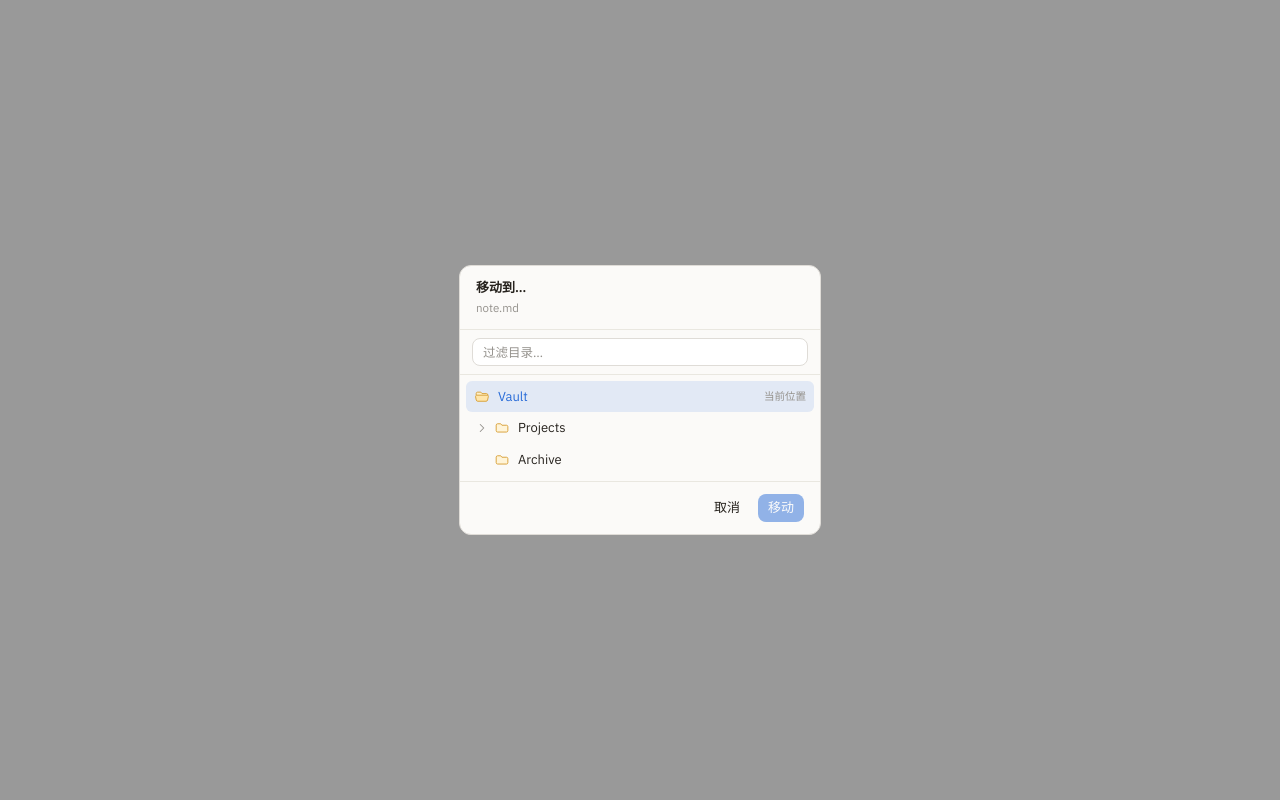
Test: MoveDialog collapsible tree › filters visible folders by typed text (case-insensitive)
The image size is (1280, 800).
Type "arch" into the field with placeholder "过滤目录…". click: (640,352)
box: [472,338,808,366]
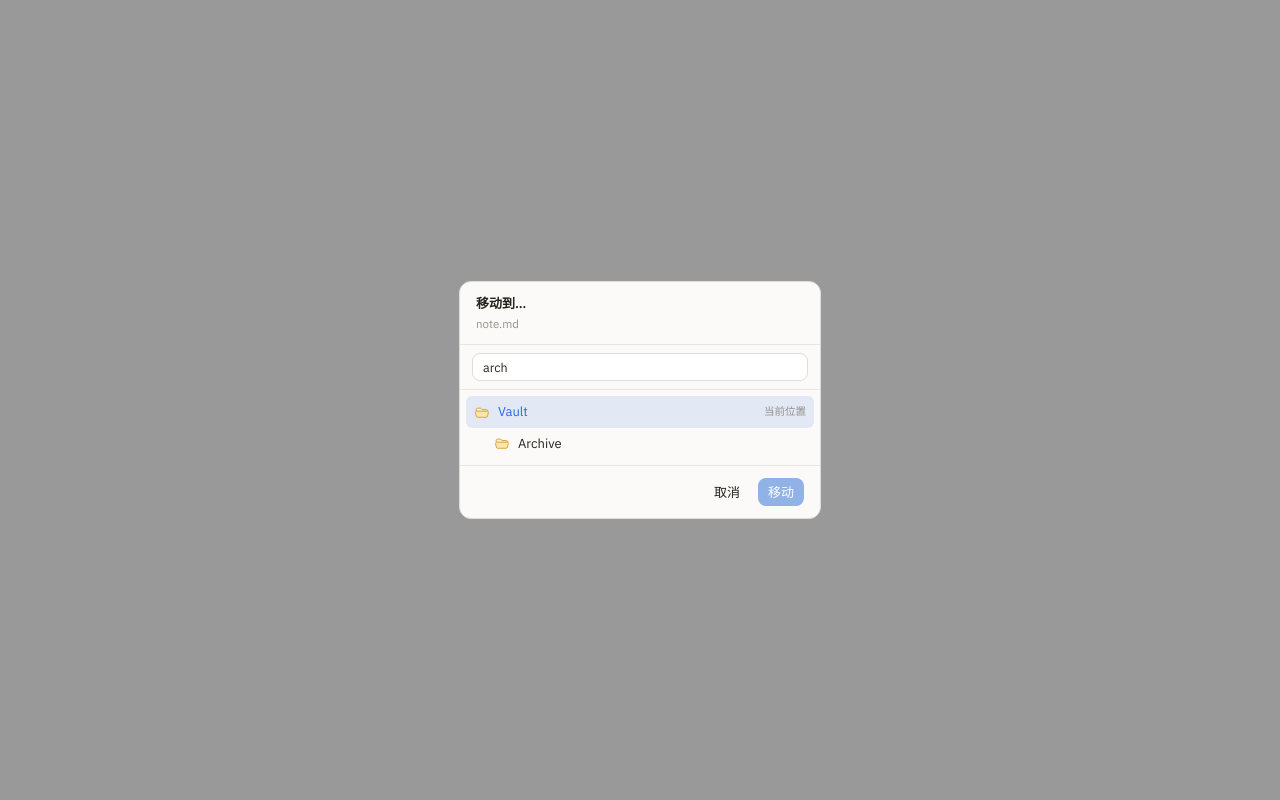
Expected: the text "Archive" is shown, [518,434,562,453]
Result: the button "Projects" is gone
